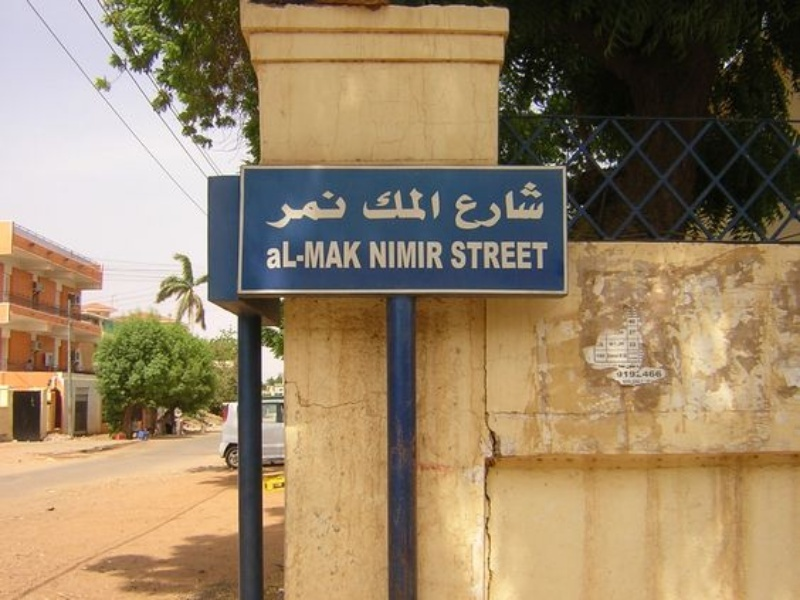text: (465, 182, 480, 232), (481, 182, 496, 232), (497, 182, 512, 232), (513, 182, 528, 232), (529, 182, 544, 232), (273, 189, 288, 230), (289, 189, 304, 230), (305, 189, 320, 230), (321, 189, 336, 230), (369, 186, 384, 223), (385, 186, 400, 223), (401, 186, 416, 223), (417, 186, 432, 223), (454, 182, 464, 232), (273, 240, 288, 270), (289, 240, 304, 270), (305, 240, 320, 270), (321, 240, 336, 270), (337, 240, 352, 270), (369, 240, 384, 269), (385, 240, 400, 269), (401, 240, 416, 269), (417, 240, 432, 269), (465, 242, 480, 270), (481, 242, 496, 270), (497, 242, 512, 270), (513, 242, 528, 270), (529, 242, 544, 270), (337, 189, 347, 230), (263, 189, 272, 230), (452, 242, 464, 270), (433, 186, 442, 223), (433, 240, 444, 269), (353, 240, 362, 270), (361, 186, 368, 223), (267, 240, 272, 270), (545, 242, 548, 270)
